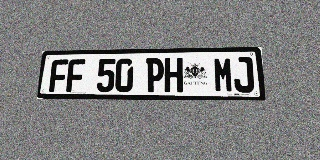0: (115, 58, 133, 92)
5: (96, 59, 116, 92)
F: (49, 59, 68, 92), (66, 59, 85, 92)
H: (164, 58, 183, 92)
J: (233, 57, 254, 93)
M: (213, 57, 234, 92)
P: (145, 58, 164, 92)
